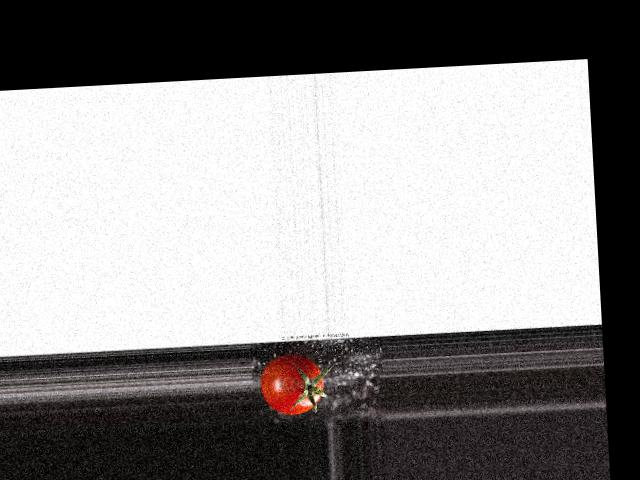tomato: (259, 352, 325, 416)
